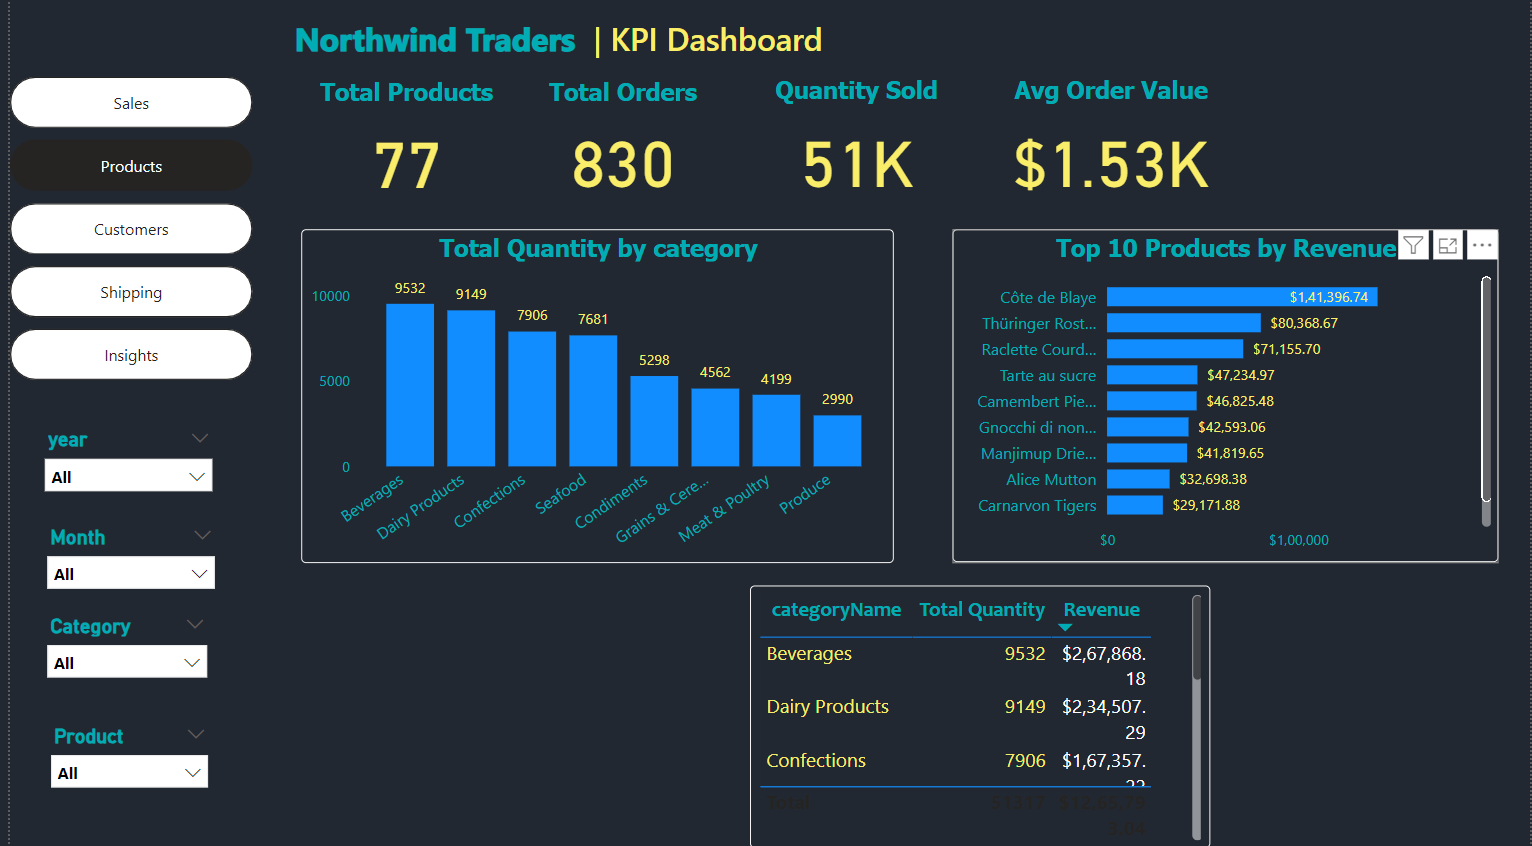

The dashboard page shown, as its layout file describes it:
{"tool":"powerbi","page":{"name":"Products","canvas":[1280,720],"ordinal":1},"visuals":[{"type":"slicer","fields":{"Values":["date.year"]},"box":[18.8,360.6,160.8,71.6],"z":0},{"type":"card","title":"Total Revenue","fields":{"Values":["Key Measures.Revenue"]},"box":[218.6,70.4,189.7,110.6],"z":1000},{"type":"card","title":"Total Orders","fields":{"Values":["Key Measures.Number of Orders"]},"box":[415,70.4,201,110.6],"z":2000},{"type":"card","title":"Quantity Sold","fields":{"Values":["Key Measures.Total Quantity"]},"box":[623.2,69.1,177.2,111.8],"z":3000},{"type":"card","title":"Avg Order Value","fields":{"Values":["Key Measures.Avg Order Value"]},"box":[829.2,69.1,193.5,111.8],"z":4000},{"type":"textbox","title":"Northwind Traders","box":[154.5,20.1,405.8,42.7],"z":5000},{"type":"textbox","title":"| KPI Dashboard","box":[447.3,20.1,280.2,36.4],"z":6000},{"type":"slicer","fields":{"Values":["categories.categoryName"]},"box":[21.4,517.6,154.5,76.6],"z":7000},{"type":"slicer","fields":{"Values":["products.productName"]},"box":[23.9,609.3,152,67.8],"z":8000},{"type":"card","title":"Total Products","fields":{"Values":["CountNonNull(products.productID)"]},"box":[1031.5,69.1,228.7,111.8],"z":9000},{"type":"pageNavigator","box":[0,70.4,204.8,255],"z":10000},{"type":"clusteredBarChart","title":"Top 10 Products by Revenue","fields":{"Y":["Key Measures.Revenue"],"Category":["products.productName"]},"box":[793,198.8,459.3,280.2],"z":11000},{"type":"lineChart","title":"Total Quantity by category","fields":{"Category":["categories.categoryName"],"Y":["Key Measures.Total Quantity"]},"box":[260.5,198.8,497.7,280.2],"z":12000},{"type":"slicer","fields":{"Values":["date.Month"]},"box":[21.4,442.2,160.8,71.6],"z":13000},{"type":"tableEx","fields":{"Values":["categories.categoryName","Key Measures.Total Quantity","Key Measures.Revenue"]},"box":[574.4,491.9,384.9,220.9],"z":14000}]}

Visuals, with their boxes on the page's 1280x720 design canvas (x1, y1, x2, y2). These are canvas units, not pixel positions in the 1532x846 screenshot, which may show the page scaled, cropped or inside an application window:
slicer - date.year: locate(19, 361, 180, 432)
"Total Revenue" card: locate(219, 70, 408, 181)
"Total Orders" card: locate(415, 70, 616, 181)
"Quantity Sold" card: locate(623, 69, 800, 181)
"Avg Order Value" card: locate(829, 69, 1023, 181)
"Northwind Traders" textbox: locate(154, 20, 560, 63)
"| KPI Dashboard" textbox: locate(447, 20, 728, 56)
slicer - categories.categoryName: locate(21, 518, 176, 594)
slicer - products.productName: locate(24, 609, 176, 677)
"Total Products" card: locate(1032, 69, 1260, 181)
pageNavigator: locate(0, 70, 205, 325)
"Top 10 Products by Revenue" clusteredBarChart: locate(793, 199, 1252, 479)
"Total Quantity by category" lineChart: locate(260, 199, 758, 479)
slicer - date.Month: locate(21, 442, 182, 514)
tableEx - categories.categoryName x Key Measures.Total Quantity: locate(574, 492, 959, 713)
